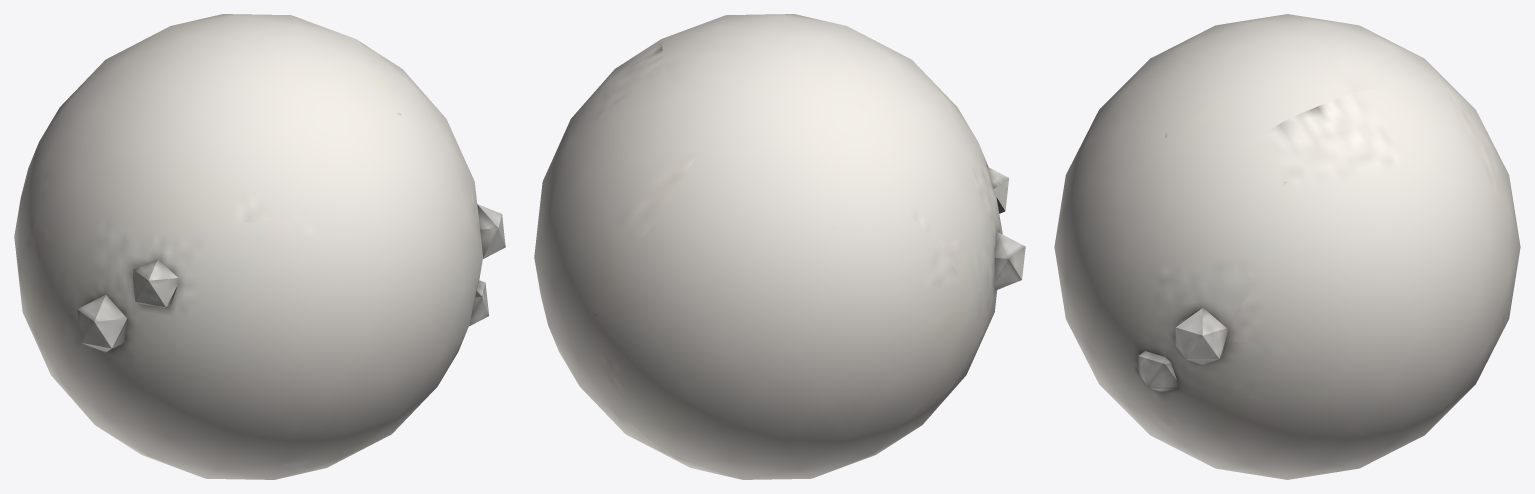
Rendered from bola_golf.glb.
3 renders of one model, left to right at view 1: azimuth 30°, elevation 25°; view 2: azimuth 150°, elevation 25°; view 3: azimuth 270°, elevation 25°, orthographic.
Parts seen in each view (by area): view 1: bola_golf; view 2: bola_golf; view 3: bola_golf.
Part boxes in pixels (<box>): bola_golf: <box>14,14,505,479</box>; bola_golf: <box>534,14,1025,479</box>; bola_golf: <box>1054,14,1520,479</box>.
Size of the model in its own units: 0.4537 by 0.44 by 0.44.
1 material, 1 textured.
